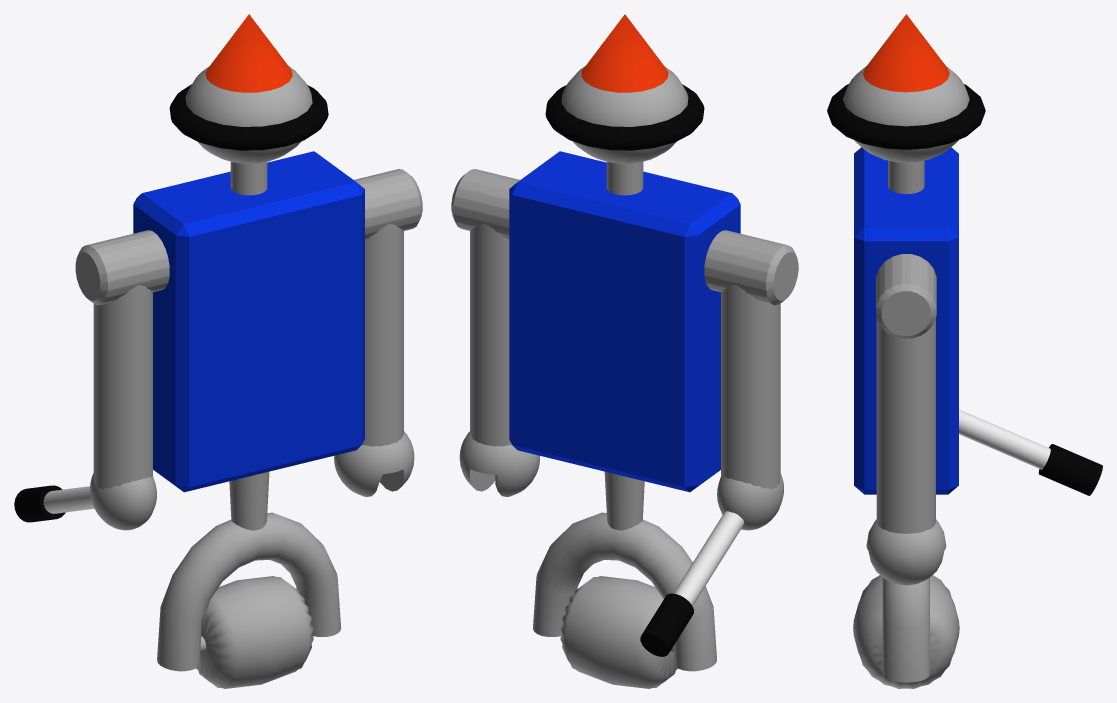
File: PrisonBotSwing.fbx
3 views of the same model, side by side, from view 1: azimuth 30°, elevation 25°; view 2: azimuth 150°, elevation 25°; view 3: azimuth 270°, elevation 25° (orthographic).
Parts seen in each view (by area): view 1: pCube1, polySurface12, pTorus1, pCylinder8, pCylinder1, polySurface3, polySurface2, polySurface4, polySurface5, polySurface1, pCylinder3, pCylinder5; view 2: pCube1, polySurface12, pCylinder8, pTorus1, pCylinder1, polySurface3, polySurface2, polySurface4, polySurface5, polySurface1, pCylinder3, pCylinder5; view 3: pCube1, pCylinder8, polySurface3, pCylinder1, pTorus1, polySurface1, polySurface4, polySurface12, polySurface5, pCylinder5.
Boxes of the visible parts, bbox=[...] form: pCube1: bbox=[133, 151, 364, 492]; polySurface12: bbox=[14, 285, 156, 530]; pTorus1: bbox=[157, 512, 341, 671]; pCylinder8: bbox=[334, 223, 414, 496]; pCylinder1: bbox=[196, 576, 313, 688]; polySurface3: bbox=[185, 66, 312, 163]; polySurface2: bbox=[75, 230, 169, 305]; polySurface4: bbox=[169, 84, 328, 150]; polySurface5: bbox=[205, 14, 292, 92]; polySurface1: bbox=[354, 169, 422, 239]; pCylinder3: bbox=[229, 471, 269, 530]; pCylinder5: bbox=[230, 161, 267, 195]; pCube1: bbox=[509, 151, 740, 492]; polySurface12: bbox=[640, 285, 783, 656]; pCylinder8: bbox=[459, 223, 539, 496]; pTorus1: bbox=[533, 512, 716, 671]; pCylinder1: bbox=[560, 576, 677, 688]; polySurface3: bbox=[561, 66, 688, 163]; polySurface2: bbox=[704, 230, 798, 305]; polySurface4: bbox=[545, 84, 704, 150]; polySurface5: bbox=[581, 14, 668, 92]; polySurface1: bbox=[451, 169, 519, 239]; pCylinder3: bbox=[604, 471, 644, 530]; pCylinder5: bbox=[606, 162, 643, 195]; pCube1: bbox=[854, 147, 958, 494]; pCylinder8: bbox=[866, 318, 946, 585]; polySurface3: bbox=[843, 66, 969, 162]; pCylinder1: bbox=[853, 575, 959, 688]; pTorus1: bbox=[882, 577, 929, 682]; polySurface1: bbox=[876, 254, 936, 338]; polySurface4: bbox=[827, 84, 985, 149]; polySurface12: bbox=[959, 409, 1102, 495]; polySurface5: bbox=[863, 14, 949, 92]; pCylinder5: bbox=[888, 160, 924, 193].
Size of the model in its own units: 6.85 by 13.55 by 5.12.
